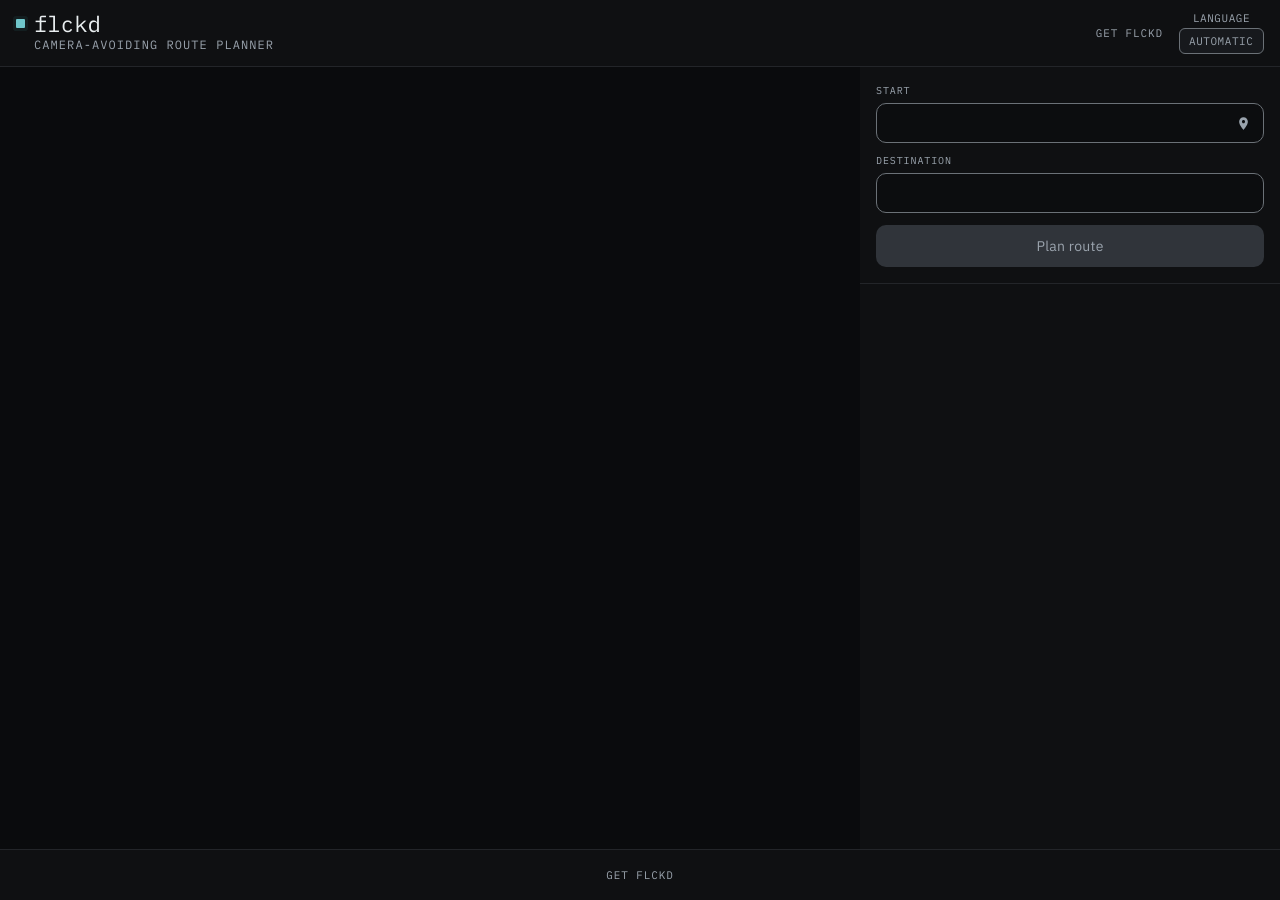
Test: PlanRoutePage re-plan focus › does not move focus on the initial plan (no previous data)
The width and height of the screenshot is (1280, 900).
Type "des m" into the dropdown labelled "Start" at (1070, 123), box [876,103,1264,143]
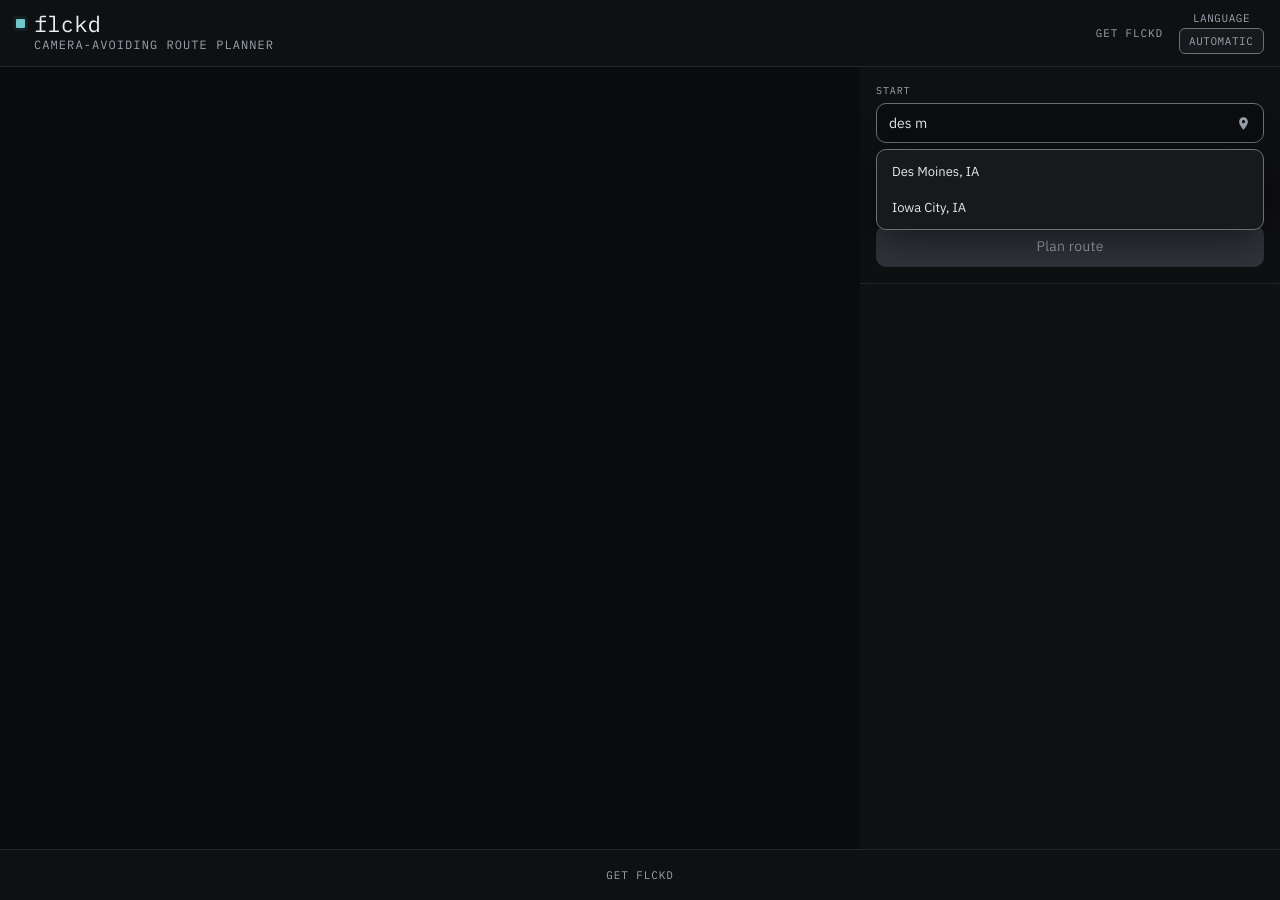
Click the option "Des Moines, IA" at (936, 172), box [881,154,1259,190]
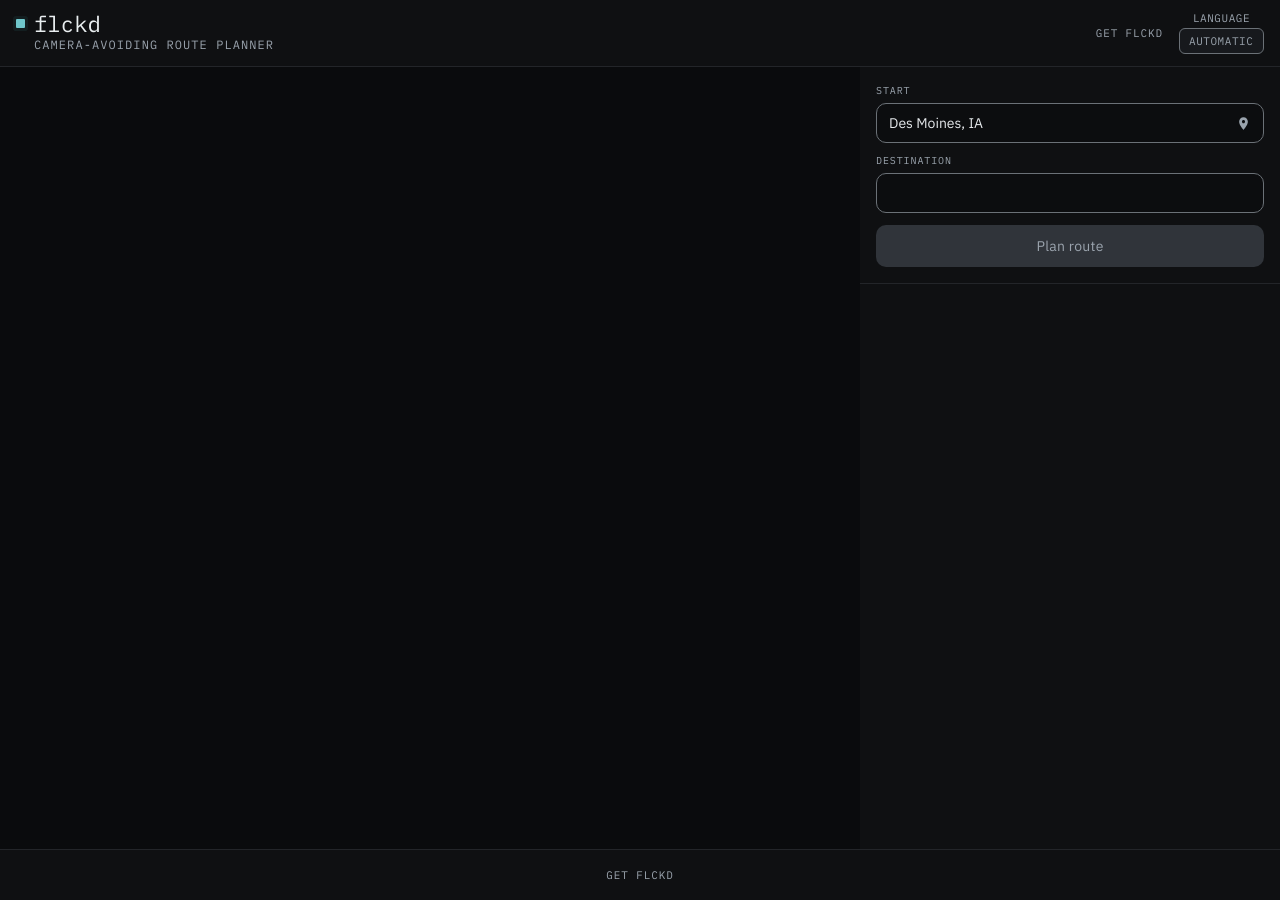
Type "iowa" into the dropdown labelled "Destination" at (1070, 193), box [876,173,1264,213]
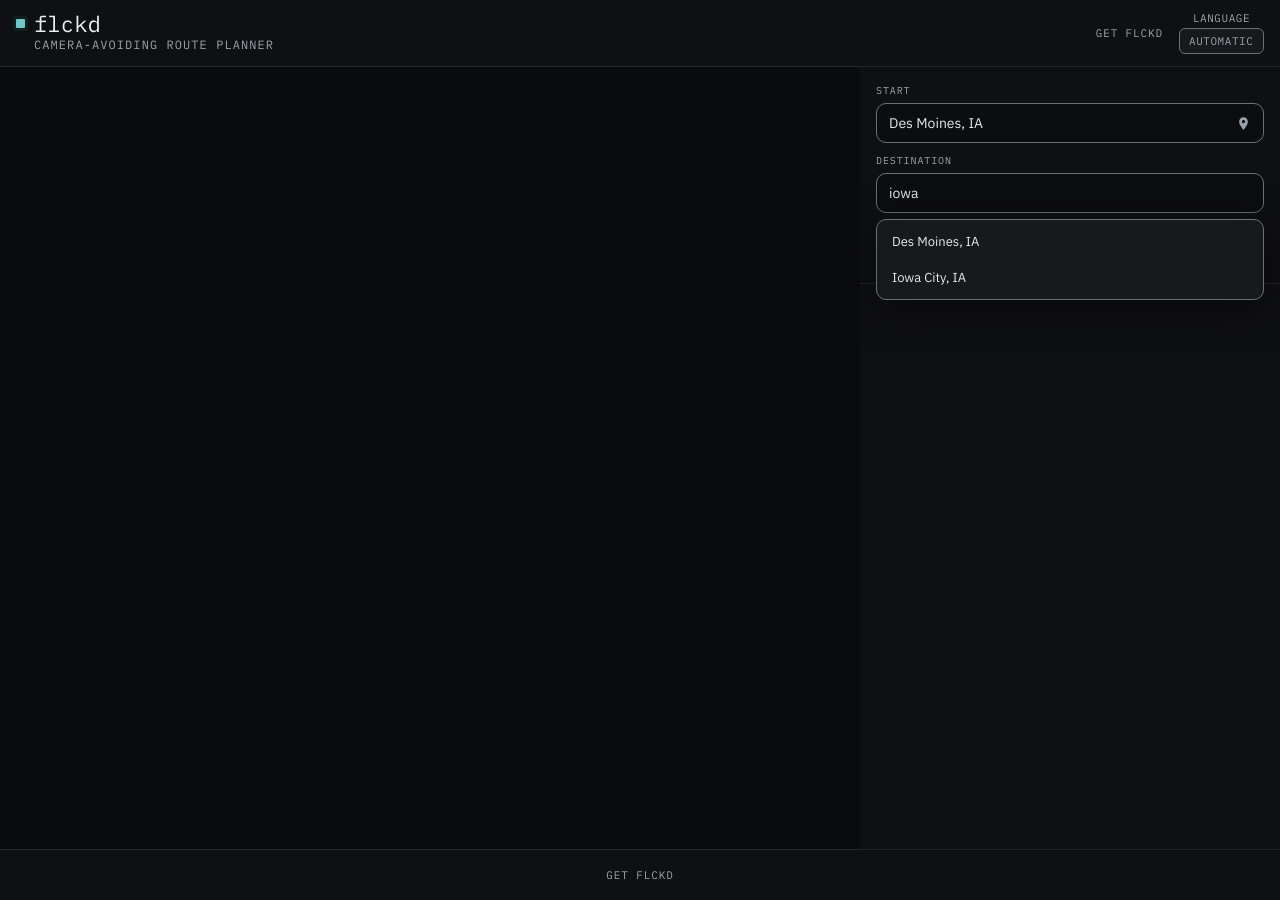
Click the option "Iowa City, IA" at (929, 277), box [881,260,1259,295]
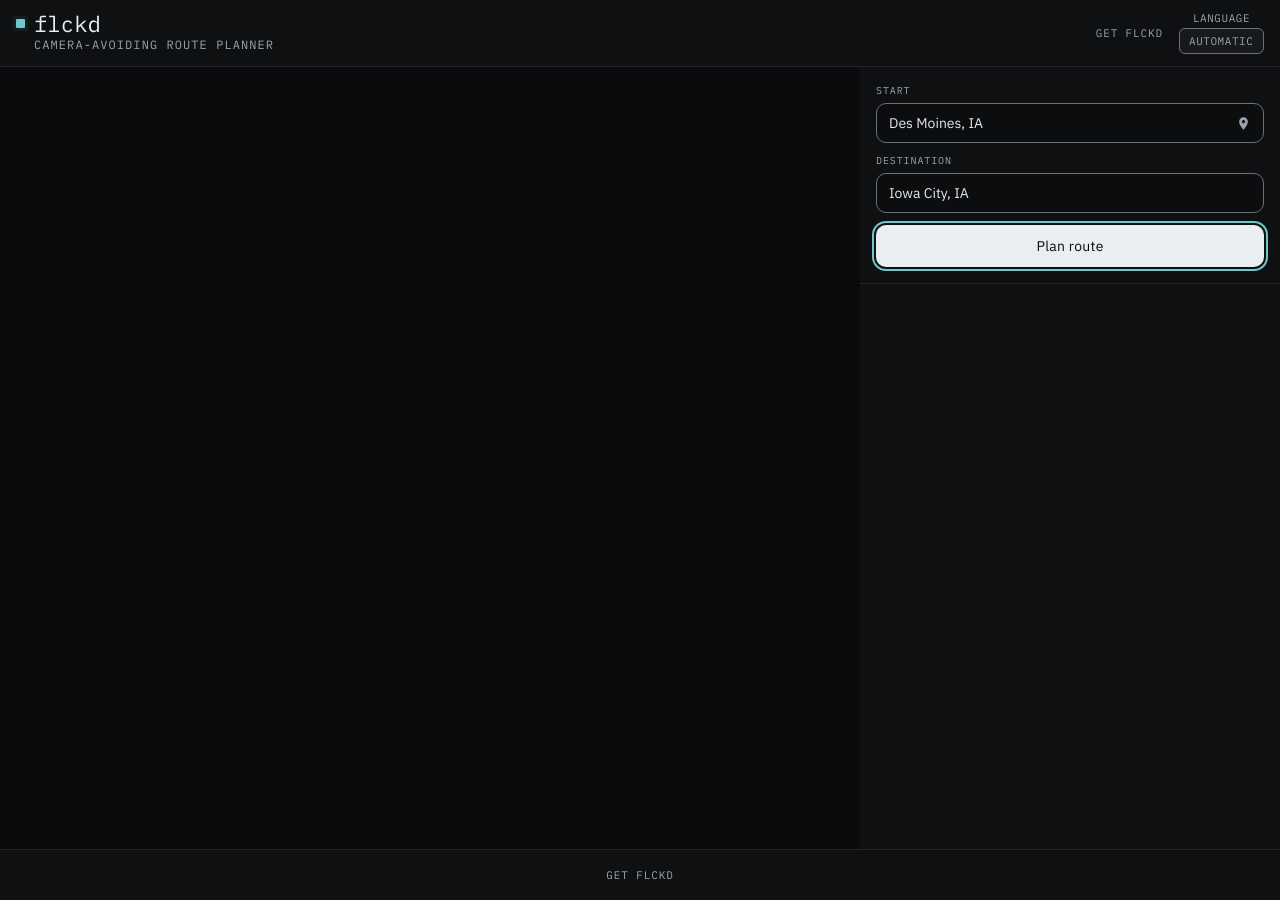
Click the button "Plan route" at (1070, 246), box [876,225,1264,267]
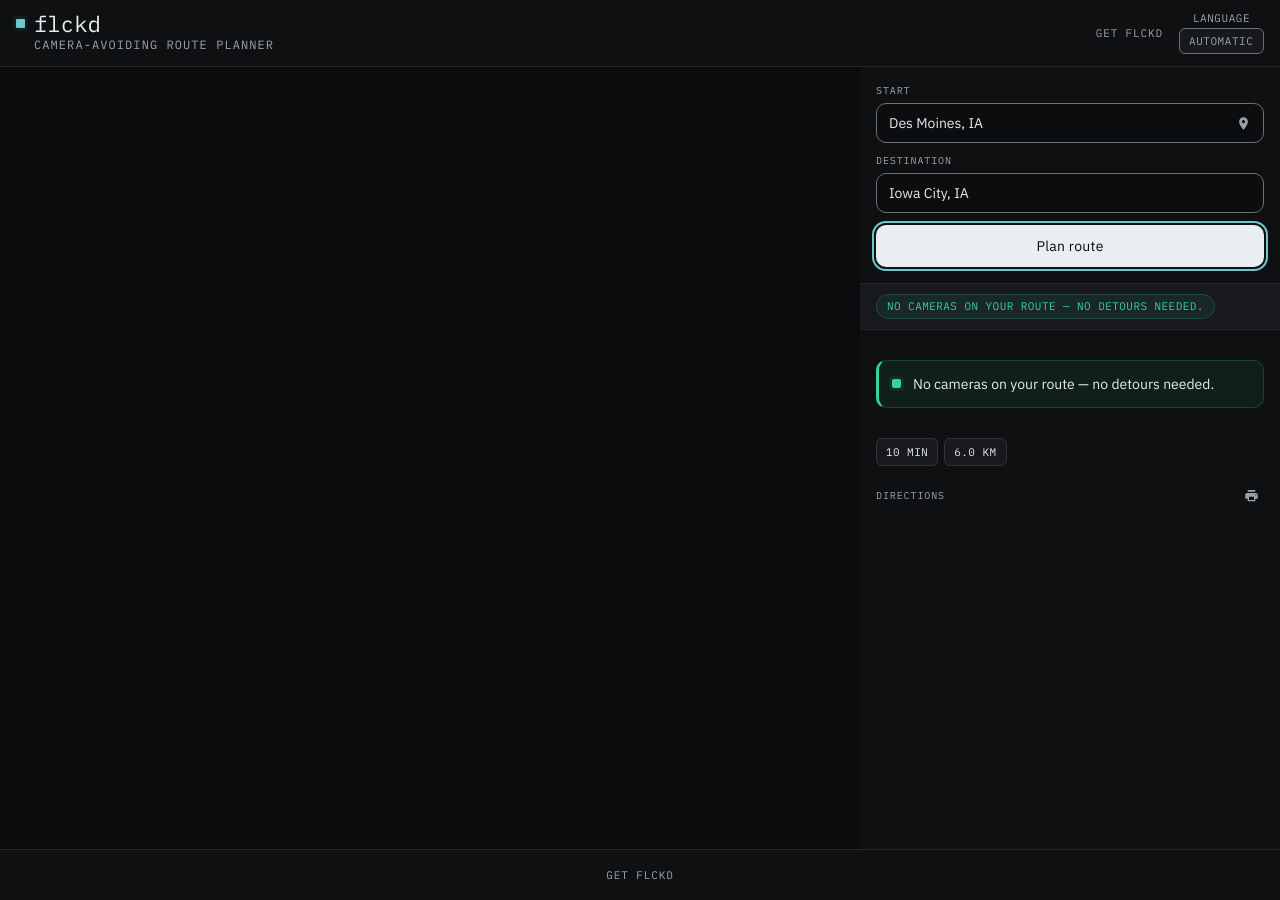
Check: the element with class "route-result" is shown, box [860,330,1279,540]
